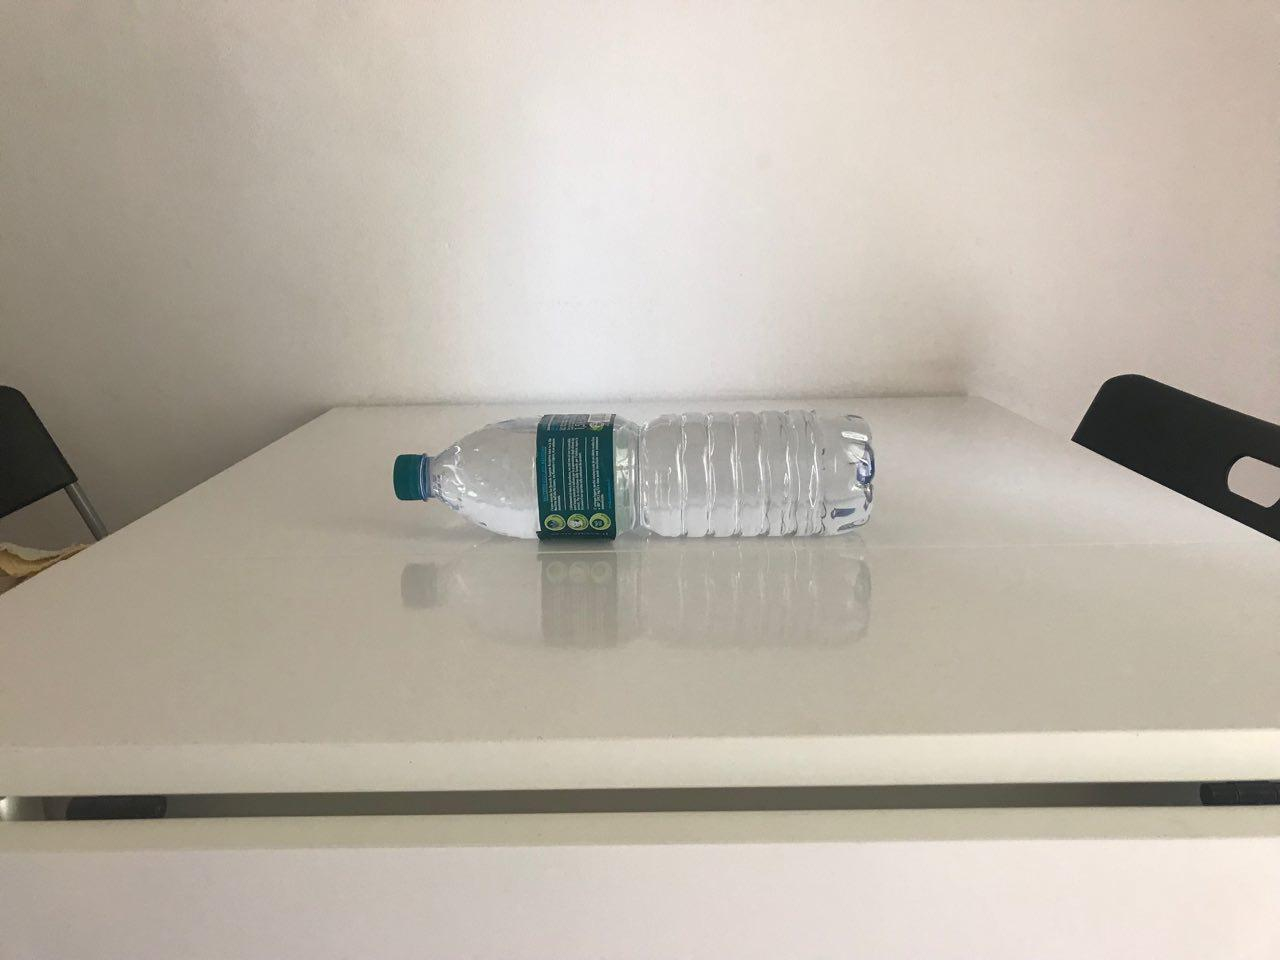san_bernardo: (391, 409, 877, 541)
